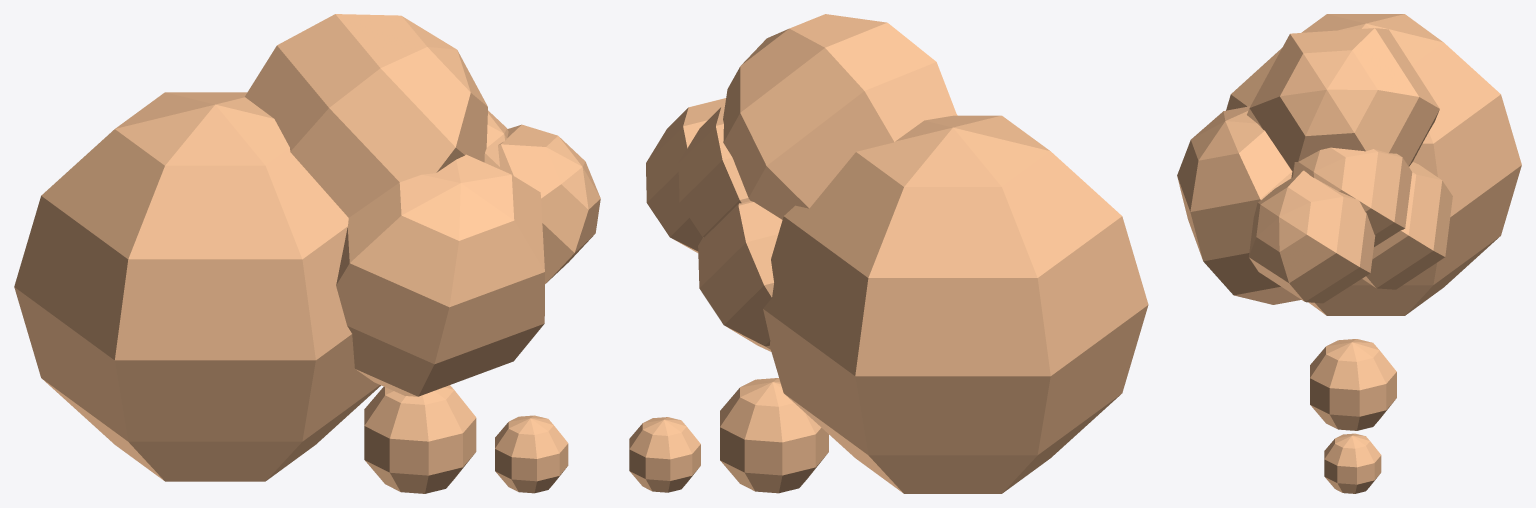
The model's file is neutral_cloud_lower_poly_emotive_broken2.gltf.
3 views of the same model, side by side, from view 1: azimuth 30°, elevation 25°; view 2: azimuth 150°, elevation 25°; view 3: azimuth 270°, elevation 25° (orthographic). The views are drawn at different scales.
Parts seen in each view (by area): view 1: Sphere.002, Sphere.009, Sphere.004, Sphere.011, Sphere.007, Sphere.010, Sphere.006; view 2: Sphere.002, Sphere.004, Sphere.011, Sphere.005, Sphere.006, Sphere.007, Sphere.010; view 3: Sphere.002, Sphere.004, Sphere.009, Sphere.007, Sphere.011, Sphere.006, Sphere.005, Sphere.010.
Part boxes in pixels (x1=…): Sphere.002: x1=14, y1=92, x2=380, y2=481; Sphere.009: x1=336, y1=154, x2=544, y2=396; Sphere.004: x1=245, y1=14, x2=487, y2=217; Sphere.011: x1=364, y1=385, x2=476, y2=493; Sphere.007: x1=498, y1=124, x2=600, y2=283; Sphere.010: x1=495, y1=415, x2=568, y2=493; Sphere.006: x1=484, y1=110, x2=508, y2=168; Sphere.002: x1=763, y1=115, x2=1148, y2=493; Sphere.004: x1=723, y1=14, x2=956, y2=219; Sphere.011: x1=720, y1=378, x2=828, y2=493; Sphere.005: x1=698, y1=201, x2=782, y2=351; Sphere.006: x1=678, y1=106, x2=750, y2=237; Sphere.007: x1=646, y1=98, x2=725, y2=252; Sphere.010: x1=629, y1=417, x2=700, y2=492; Sphere.002: x1=1226, y1=14, x2=1521, y2=315; Sphere.004: x1=1247, y1=28, x2=1439, y2=170; Sphere.009: x1=1177, y1=106, x2=1301, y2=304; Sphere.007: x1=1249, y1=170, x2=1375, y2=303; Sphere.011: x1=1310, y1=339, x2=1396, y2=430; Sphere.006: x1=1291, y1=147, x2=1412, y2=246; Sphere.005: x1=1362, y1=162, x2=1452, y2=289; Sphere.010: x1=1324, y1=433, x2=1381, y2=493.
Size of the model in its own units: 1.23 by 1.22 by 0.9661.
